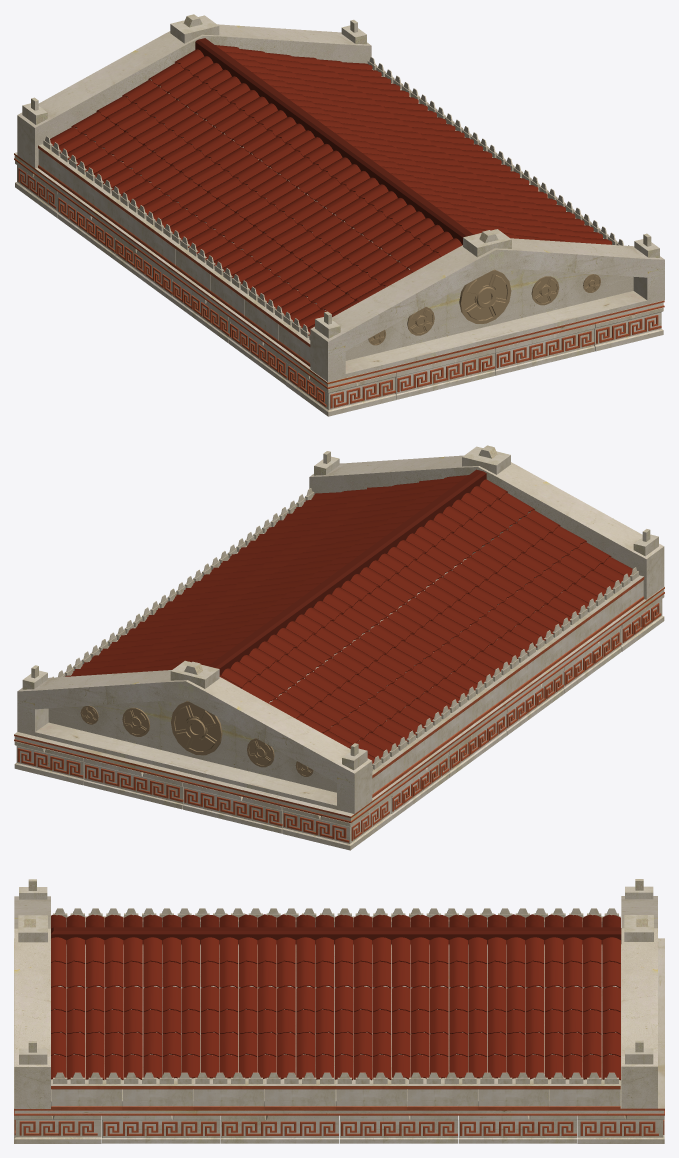
File: toit-greek-temple-simple-low-pack1.fbx
3 views of the same model, one above another, from view 1: azimuth 30°, elevation 25°; view 2: azimuth 150°, elevation 25°; view 3: azimuth 270°, elevation 25° (orthographic). The views are drawn at different scales.
Parts seen in each view (by area): view 1: tiles-roof-02.002, facade, roof-side, facade.001, roof-base, roof-middle, block-top, block-top-corner, block-top.001, ornament-facade, block-top-corner.001, ornament-top.002 (+12 smaller); view 2: tiles-roof-02.002, facade.001, roof-side, facade, roof-base, roof-middle, block-top.004, block-top-corner.003, block-top.001, ornament-facade.005, block-top-corner.002, block-top.003 (+12 smaller); view 3: tiles-roof-02.002, roof-side, roof-base, facade.001, facade, roof-middle, block-top.005, block-top.007, block-top.006, block-top-corner.001, block-top-corner.002, ornament-top.017 (+5 smaller).
Boxes of the visible parts, x1=… form: tiles-roof-02.002: x1=50, y1=45, x2=612, y2=335; facade: x1=310, y1=229, x2=664, y2=382; roof-side: x1=38, y1=56, x2=629, y2=366; facade.001: x1=17, y1=14, x2=371, y2=168; roof-base: x1=14, y1=125, x2=664, y2=389; roof-middle: x1=195, y1=38, x2=473, y2=244; block-top: x1=395, y1=324, x2=594, y2=399; block-top-corner: x1=286, y1=359, x2=396, y2=416; block-top.001: x1=171, y1=275, x2=287, y2=385; ornament-facade: x1=459, y1=269, x2=511, y2=323; block-top-corner.001: x1=594, y1=307, x2=663, y2=351; ornament-top.002: x1=496, y1=331, x2=594, y2=367; tiles-roof-02.002: x1=65, y1=475, x2=632, y2=763; facade.001: x1=17, y1=660, x2=372, y2=813; roof-side: x1=52, y1=488, x2=644, y2=797; facade: x1=309, y1=445, x2=664, y2=599; roof-base: x1=14, y1=559, x2=664, y2=822; roof-middle: x1=208, y1=469, x2=486, y2=675; block-top.004: x1=83, y1=758, x2=282, y2=833; block-top-corner.003: x1=282, y1=793, x2=392, y2=850; block-top.001: x1=506, y1=625, x2=621, y2=735; ornament-facade.005: x1=171, y1=701, x2=222, y2=755; block-top-corner.002: x1=14, y1=741, x2=84, y2=785; block-top.003: x1=391, y1=751, x2=449, y2=818; tiles-roof-02.002: x1=51, y1=914, x2=620, y2=1080; roof-side: x1=51, y1=908, x2=620, y2=1109; roof-base: x1=14, y1=938, x2=664, y2=1115; facade.001: x1=621, y1=879, x2=657, y2=1108; facade: x1=14, y1=879, x2=50, y2=1108; roof-middle: x1=51, y1=927, x2=621, y2=944; block-top.005: x1=339, y1=1115, x2=576, y2=1143; block-top.007: x1=102, y1=1115, x2=220, y2=1143; block-top.006: x1=220, y1=1115, x2=338, y2=1143; block-top-corner.001: x1=14, y1=1115, x2=101, y2=1143; block-top-corner.002: x1=577, y1=1115, x2=664, y2=1143; ornament-top.017: x1=460, y1=1121, x2=576, y2=1135.
Size of the model in its own units: 6004 by 2323 by 9638.
